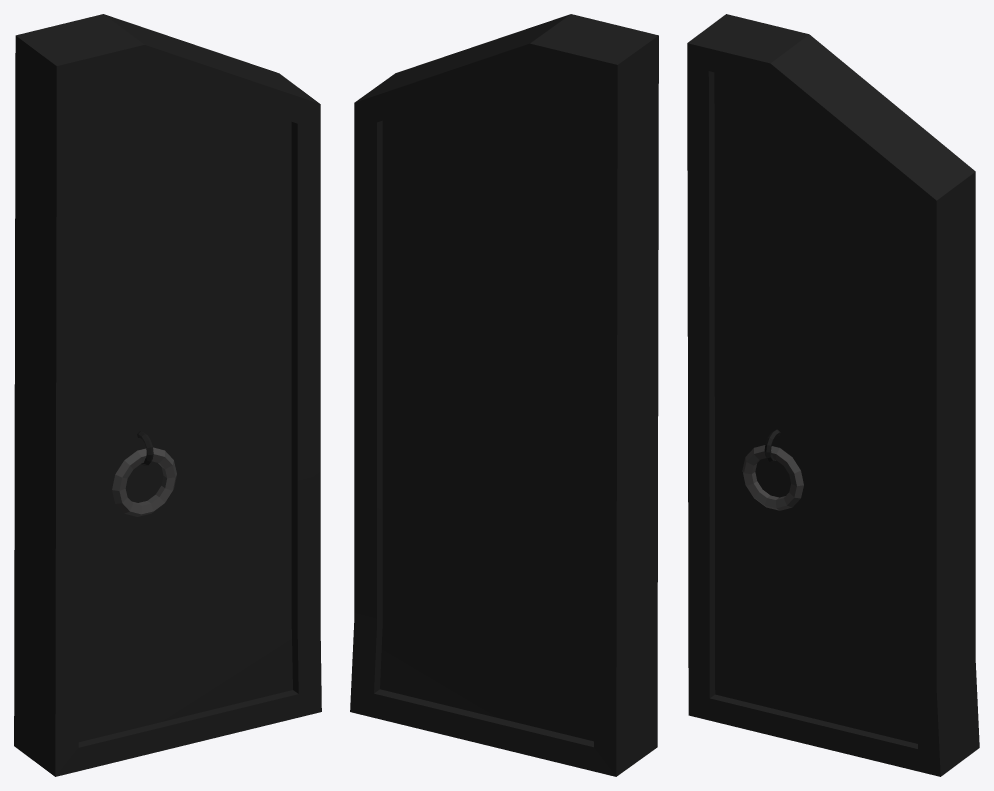
File: winter-castle-door-v2-r.glb
The picture shows the model from 3 angles, left to right: view 1: azimuth 30°, elevation 25°; view 2: azimuth 150°, elevation 25°; view 3: azimuth 330°, elevation 25°; orthographic projection. The views are drawn at different scales.
Visible parts, largest first — view 1: WinterCastleDoor_v2_R; view 2: WinterCastleDoor_v2_R; view 3: WinterCastleDoor_v2_R.
Boxes of the visible parts, x1=… form: WinterCastleDoor_v2_R: x1=14, y1=14, x2=321, y2=776; WinterCastleDoor_v2_R: x1=350, y1=14, x2=658, y2=776; WinterCastleDoor_v2_R: x1=687, y1=14, x2=979, y2=776.
Bounding box in the file's own units: 162 × 413 × 51.
1 material, 1 textured.
